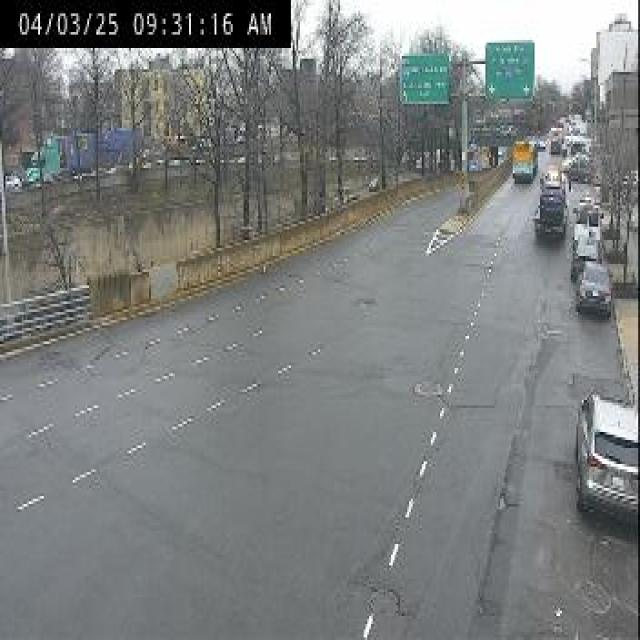open parking: (548, 248, 640, 550)
